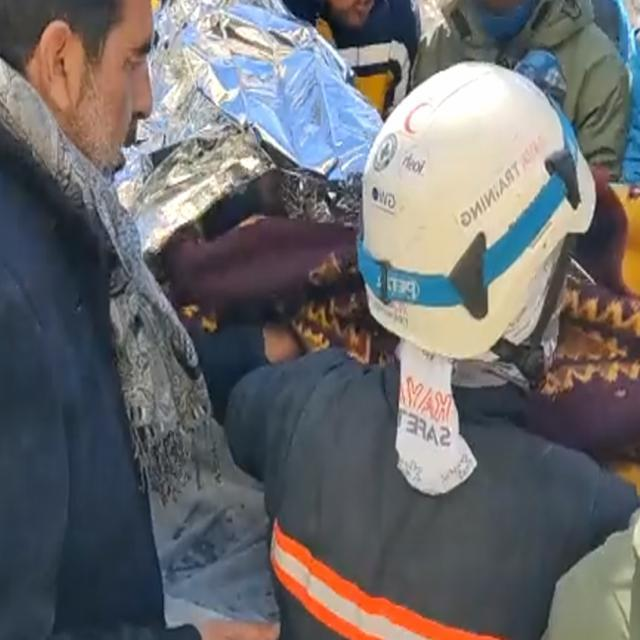safety_helmet: (356, 60, 591, 343)
